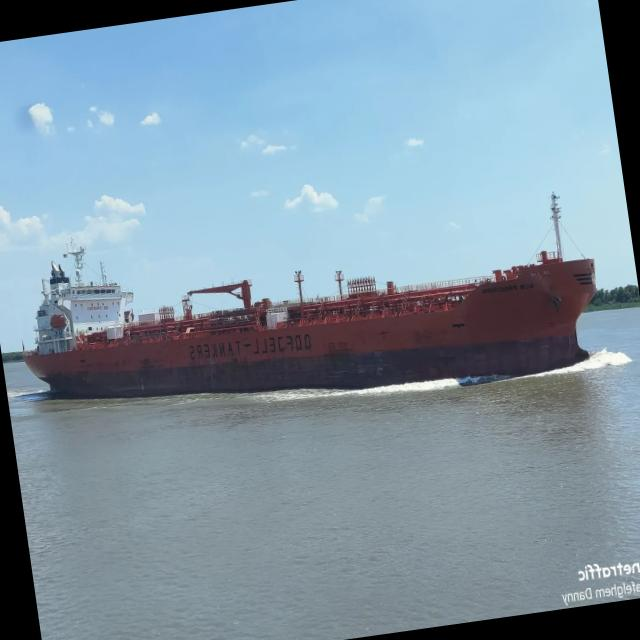Tanker: (24, 193, 596, 398)
